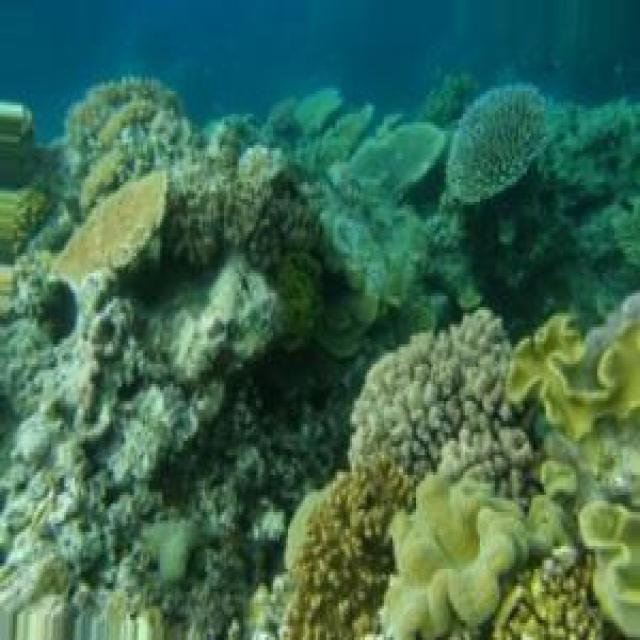bleached coral: (128, 199, 322, 640), (0, 284, 115, 620), (124, 253, 267, 373)
healthy coral: (514, 330, 640, 634), (81, 82, 358, 210), (378, 472, 516, 640), (350, 210, 469, 358), (352, 341, 465, 478), (448, 97, 550, 216), (576, 128, 640, 302)
